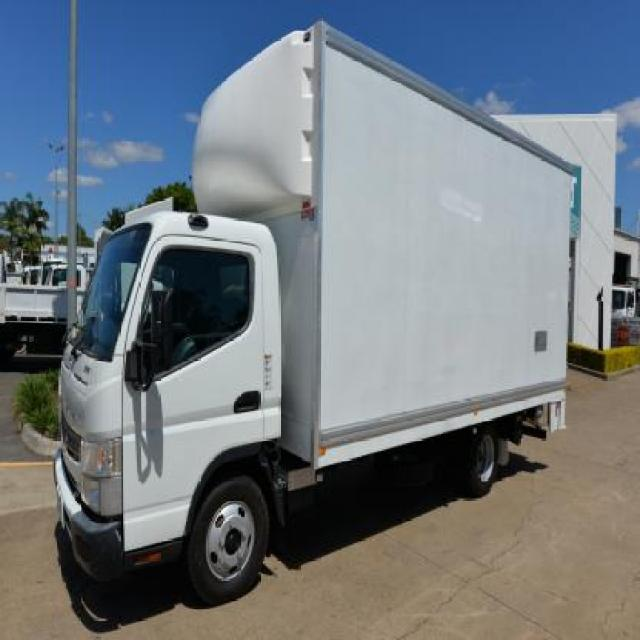truck: (54, 17, 576, 602)
